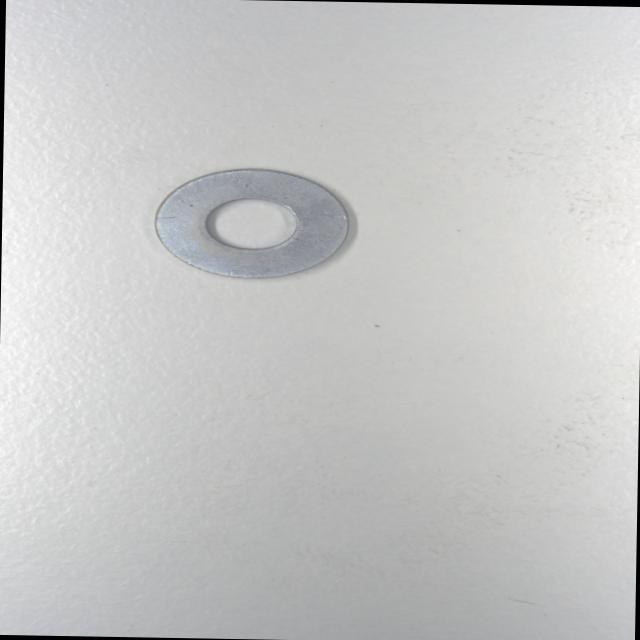washer: (150, 166, 350, 280)
